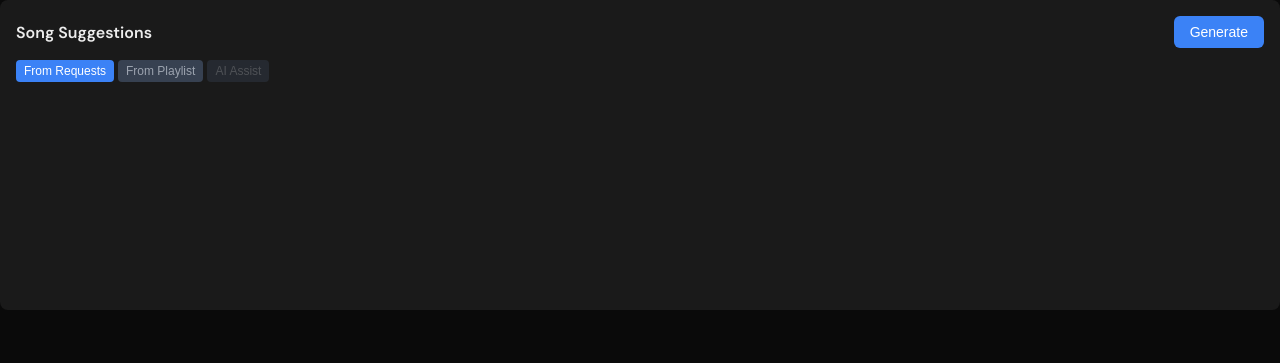
Test: RecommendationsCard › shows loading state during generation
Click the button "Generate" at (1219, 32), box [1174,16,1264,48]
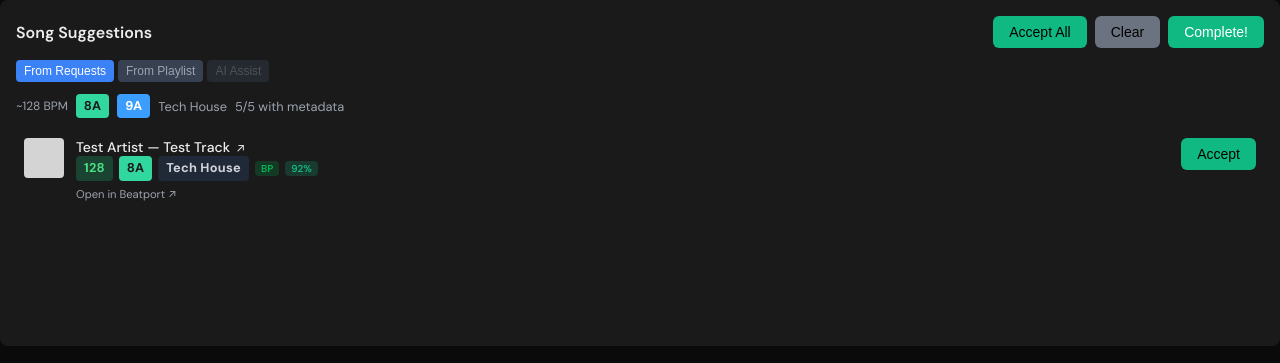
Expected: the text "Test Artist — Test Track" is shown, [76,138,230,156]
